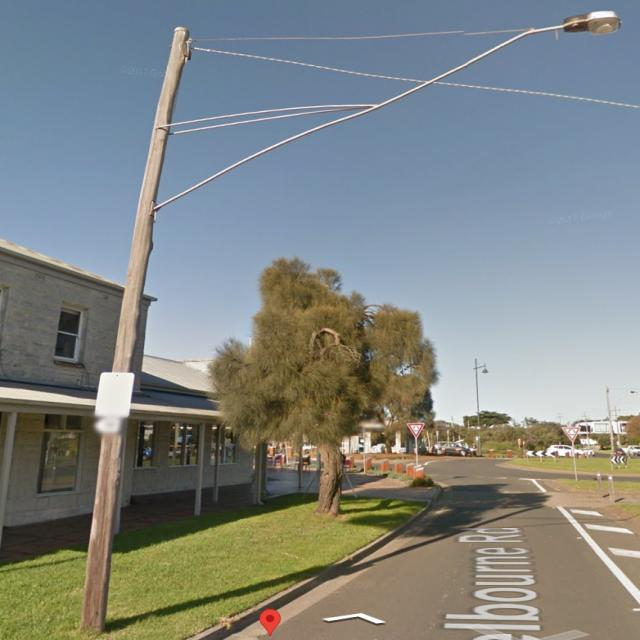streetlight: (150, 8, 622, 213), (474, 364, 489, 374)
timber-pole: (79, 27, 191, 635), (606, 387, 615, 457), (475, 358, 481, 456)
top mount suitable pole: (78, 7, 623, 637)
